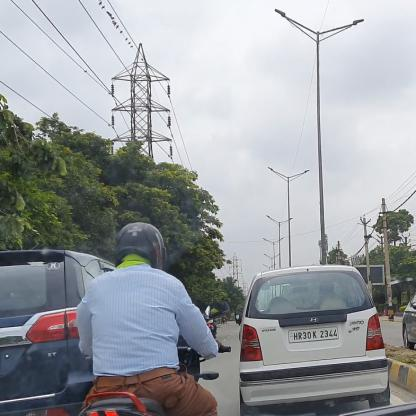car: (238, 265, 396, 415), (1, 250, 118, 415)
motorcycle: (79, 222, 232, 415)
